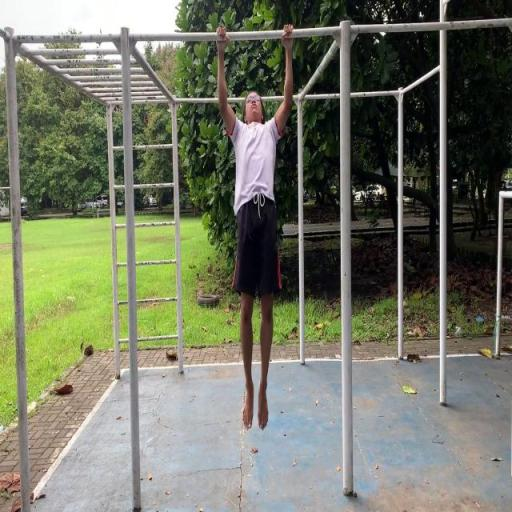Normal_BrenchPress: (215, 23, 296, 433)
